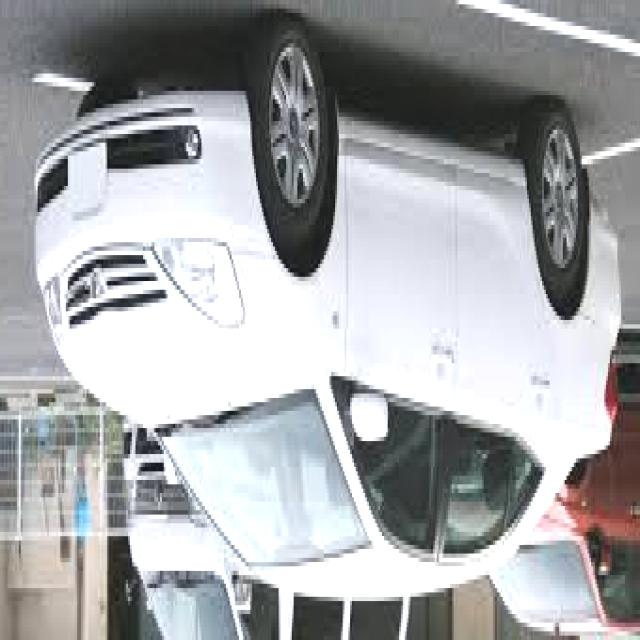red: (487, 364, 640, 632)
white: (31, 11, 622, 598), (123, 421, 409, 640)
